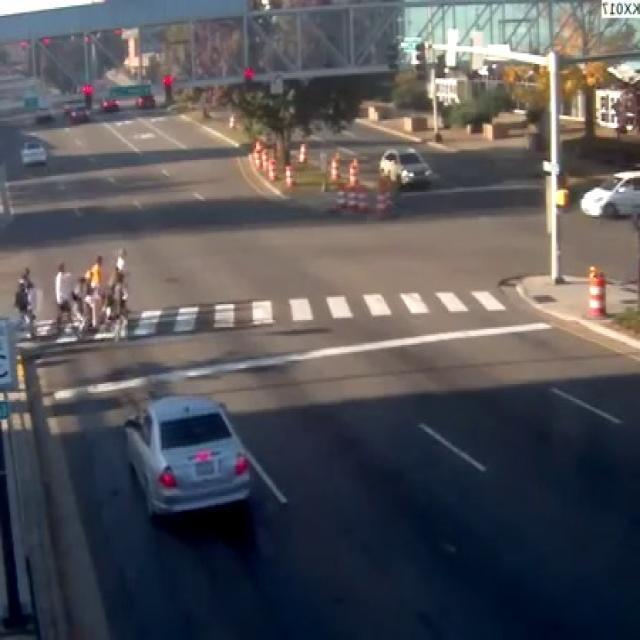car: (124, 395, 248, 513), (579, 169, 638, 214), (377, 146, 433, 184), (19, 139, 46, 164)
red_light: (160, 71, 173, 103), (79, 79, 92, 105), (240, 64, 254, 80)
stop_line: (51, 320, 548, 400)
